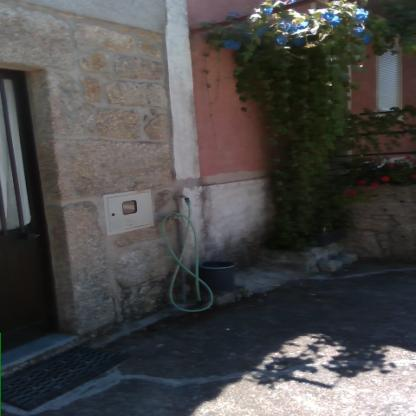closed: (0, 59, 72, 340)
